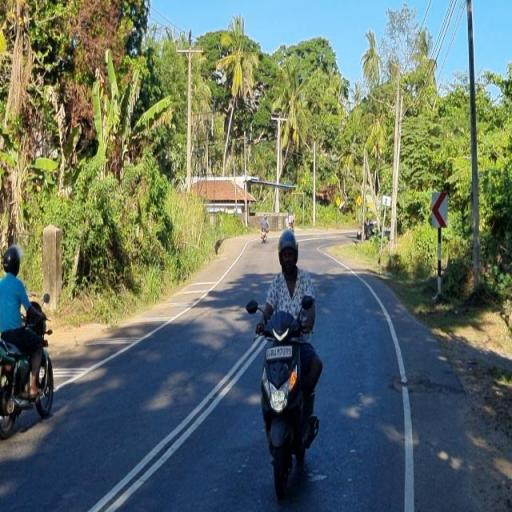double_white_line: (82, 334, 268, 510)
